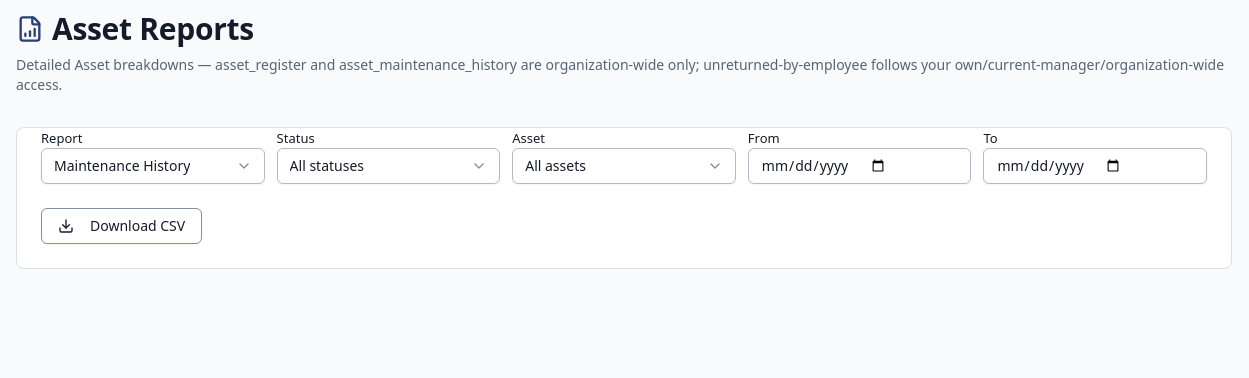
Test: Asset Reports page › per-report filter visibility (W93 precedent — never a no-op filter) › the status filter shows maintenance-status options for asset_maintenance_history
What coordinates should you click on to do the following:
click the dropdown with test id "select-asset-report-status"
I would click on:
 (388, 166)
Its box is [277,148,500,184].
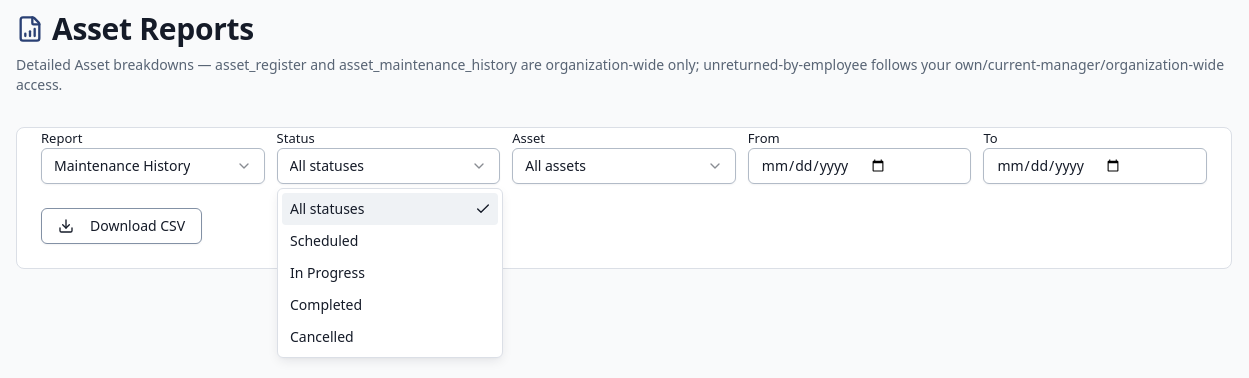
Now the option "In Progress" is shown, box [290,263,365,282]
